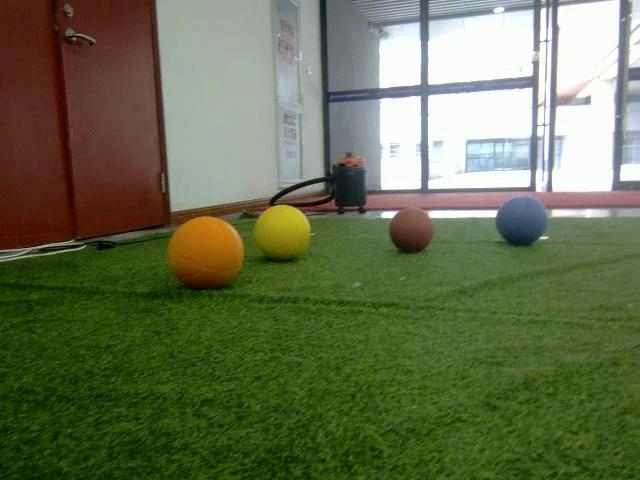blue_ball: (494, 196, 548, 248)
orange_ball: (165, 216, 244, 287)
red_ball: (390, 207, 432, 256)
yellow_ball: (252, 205, 310, 260)
